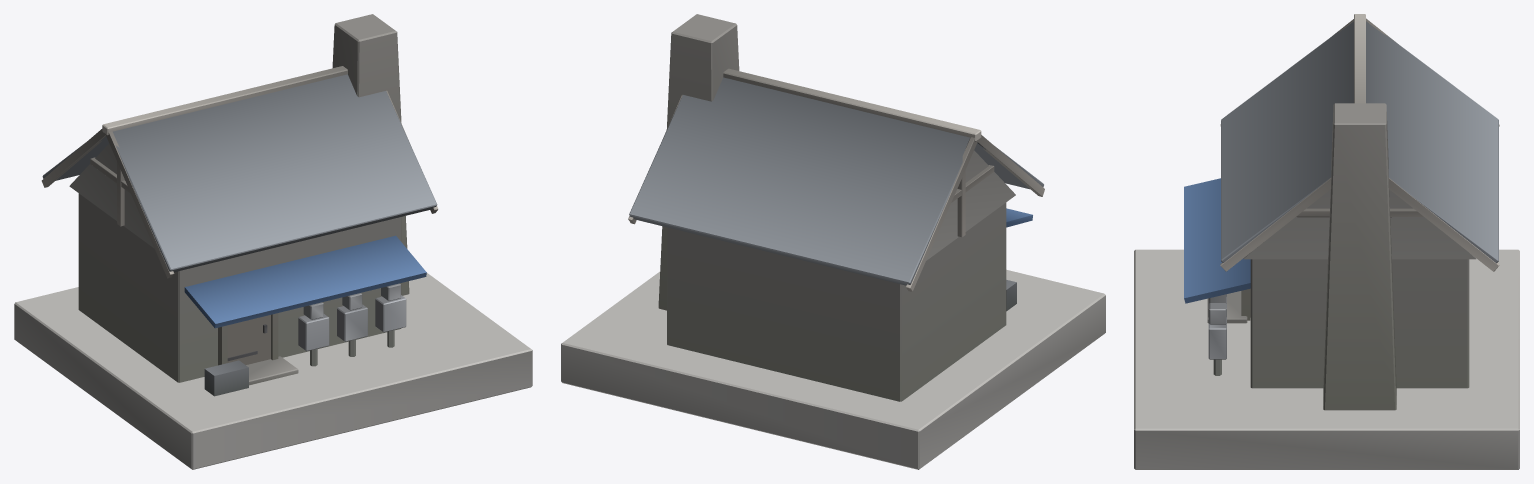
File: armourer_l1_lod1.glb
3 renders of one model, left to right at view 1: azimuth 30°, elevation 25°; view 2: azimuth 150°, elevation 25°; view 3: azimuth 270°, elevation 25°, orthographic. The views are drawn at different scales.
Parts seen in each view (by area): view 1: armourer_l1_lod1; view 2: armourer_l1_lod1; view 3: armourer_l1_lod1.
Boxes of the visible parts, x1,y1,x2,y2 form: armourer_l1_lod1: (14, 14, 532, 469); armourer_l1_lod1: (561, 14, 1105, 469); armourer_l1_lod1: (1134, 14, 1519, 469).
Bounding box in the file's own units: 8.4 × 7.05 × 7.6.
